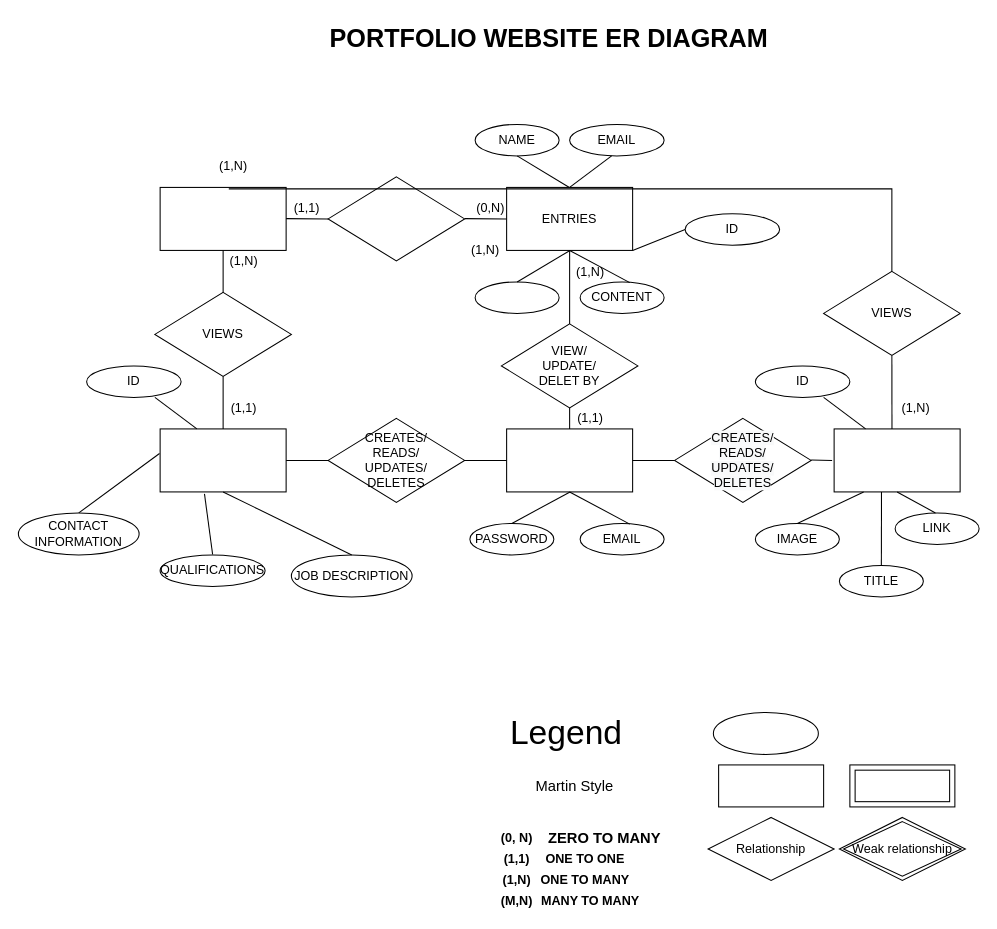
This 997x929 diagram has some shape labels left out. The centre of each missing label's shape, as x and y in pixels:
"Attribute" belongs at (765,732).
"CREATES" belongs at (396,218).
"Entity" belongs at (771,785).
"OWNER" belongs at (569,460).
"PHONE_NO" belongs at (516,297).
"PROJECTS" belongs at (896,460).
"RESUME" belongs at (222,460).
"VISITOR" belongs at (222,218).
"Weak entity" belongs at (902,785).
